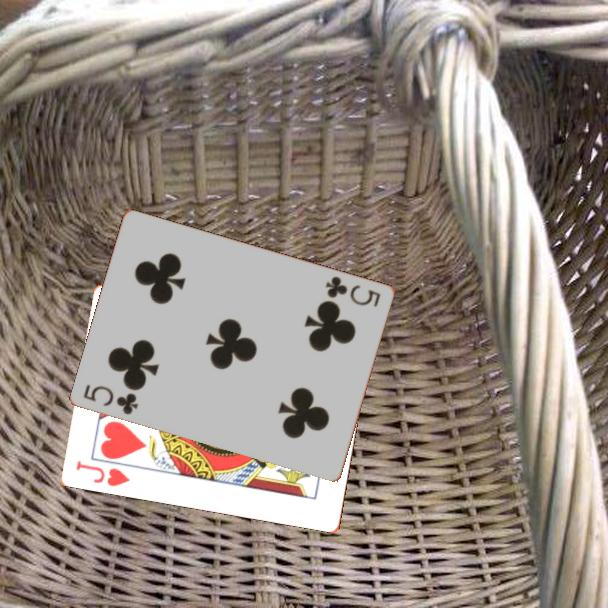c05: (322, 272, 384, 310), (80, 381, 142, 418)
h11: (73, 457, 133, 489)
